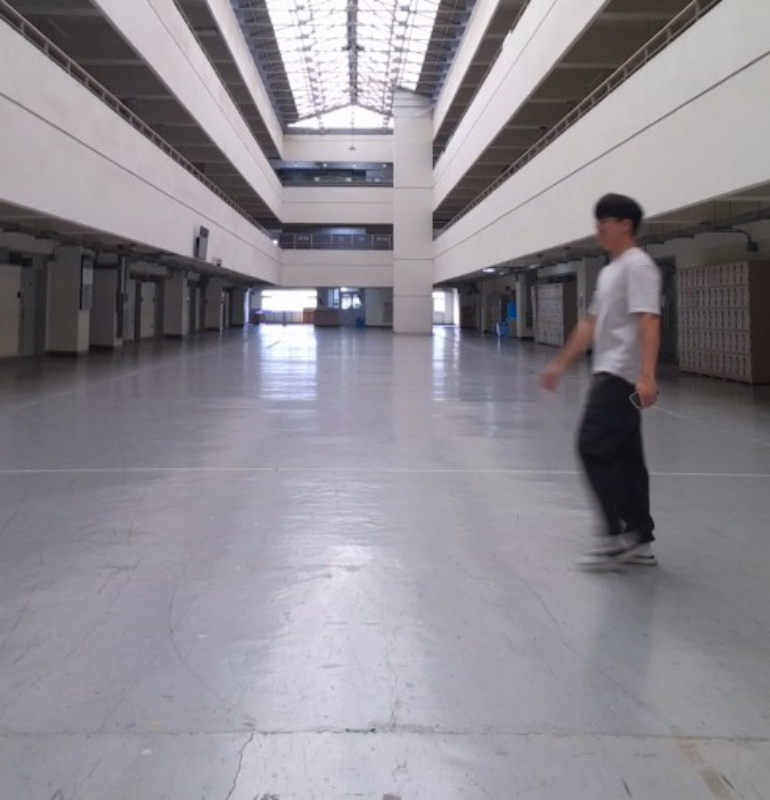person: (531, 190, 668, 573)
